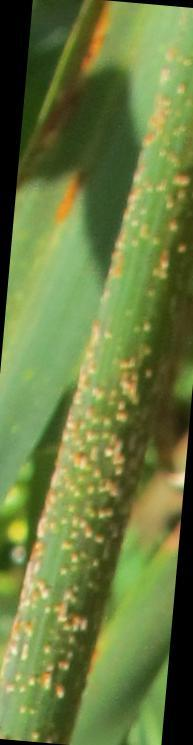Wheat: (68, 12, 193, 396), (8, 394, 156, 588), (8, 579, 101, 718)
